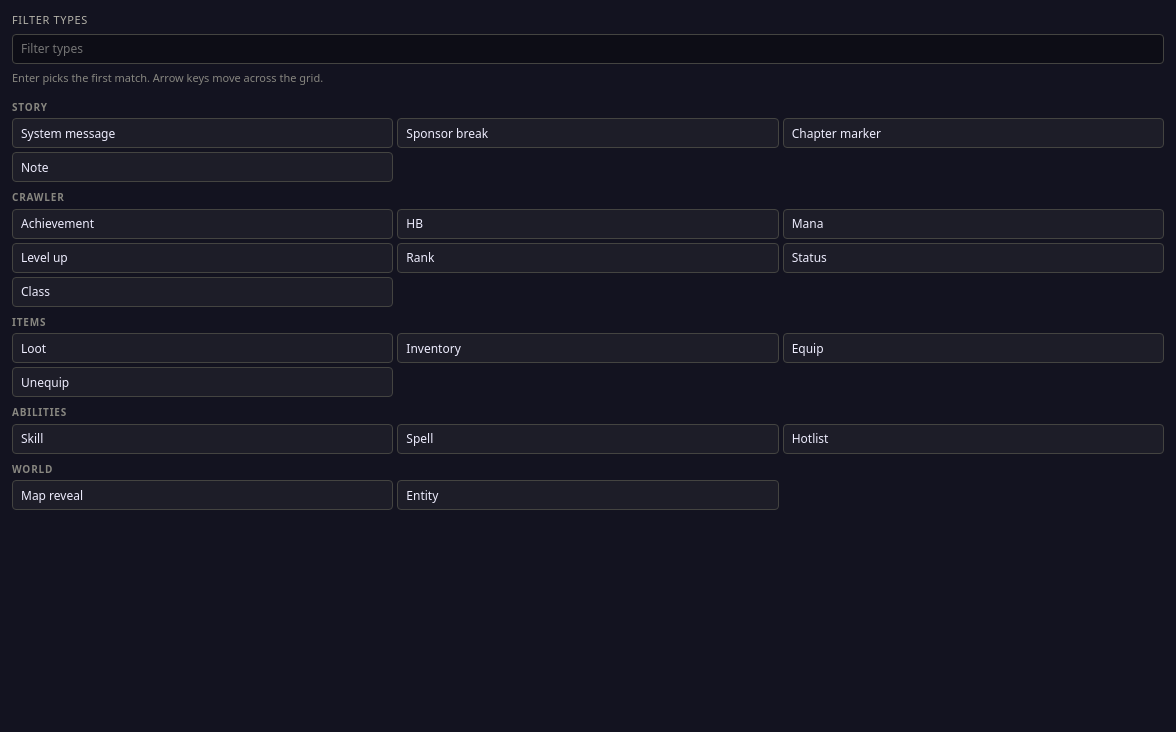
TypePicker (T1015) › says so when nothing matches
The width and height of the screenshot is (1176, 732).
Type "zzz" into the search field with test id "type-filter" at (588, 49), box [12,34,1164,64]
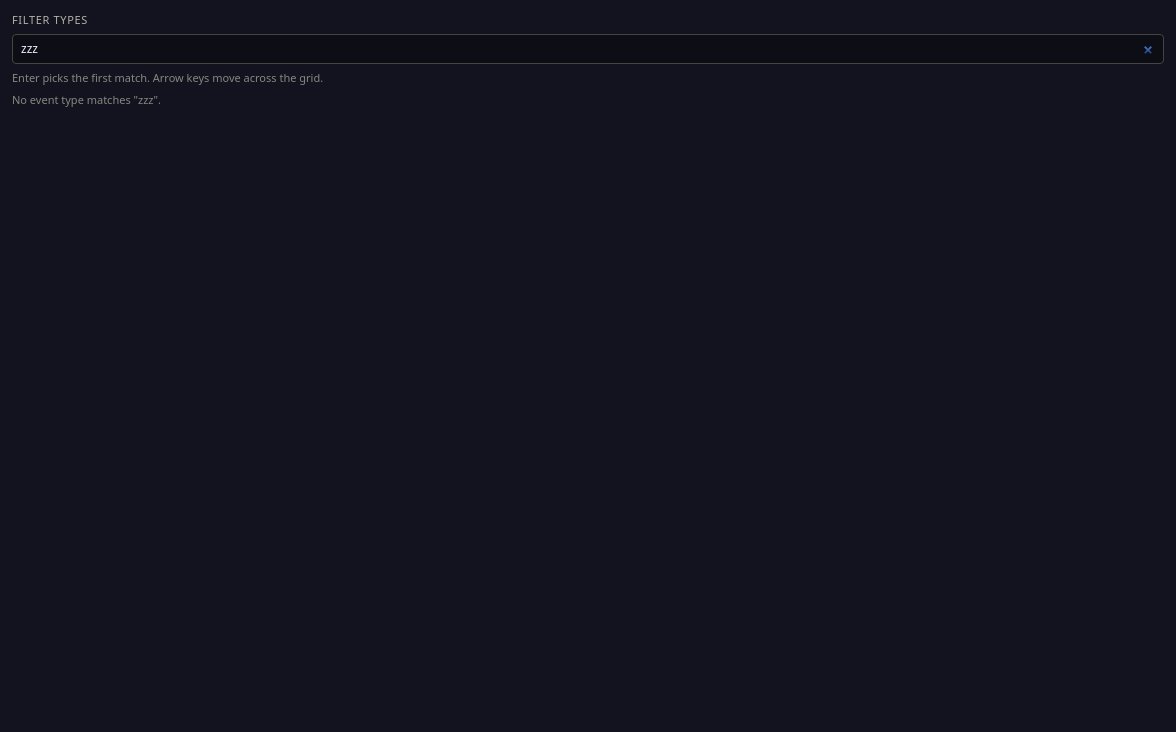
Now the text with test id "type-picker-empty" shows "zzz", box [12,92,161,107]
